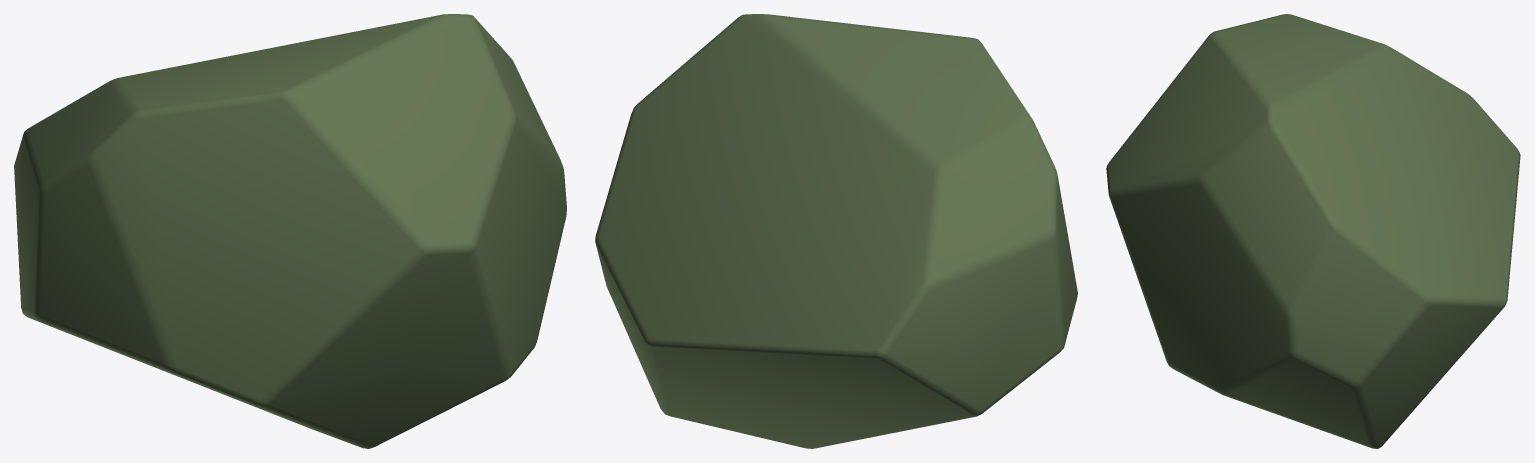
File: Stone_2_2.FBX
The picture shows the model from 3 angles, left to right: view 1: azimuth 30°, elevation 25°; view 2: azimuth 150°, elevation 25°; view 3: azimuth 270°, elevation 25°; orthographic projection. The views are drawn at different scales.
Parts seen in each view (by area): view 1: Object003; view 2: Object003; view 3: Object003.
Boxes of the visible parts, x1=… form: Object003: x1=14, y1=14, x2=566, y2=448; Object003: x1=595, y1=14, x2=1077, y2=448; Object003: x1=1106, y1=14, x2=1520, y2=448.
Size of the model in its own units: 82.63 by 66.31 by 72.32.
